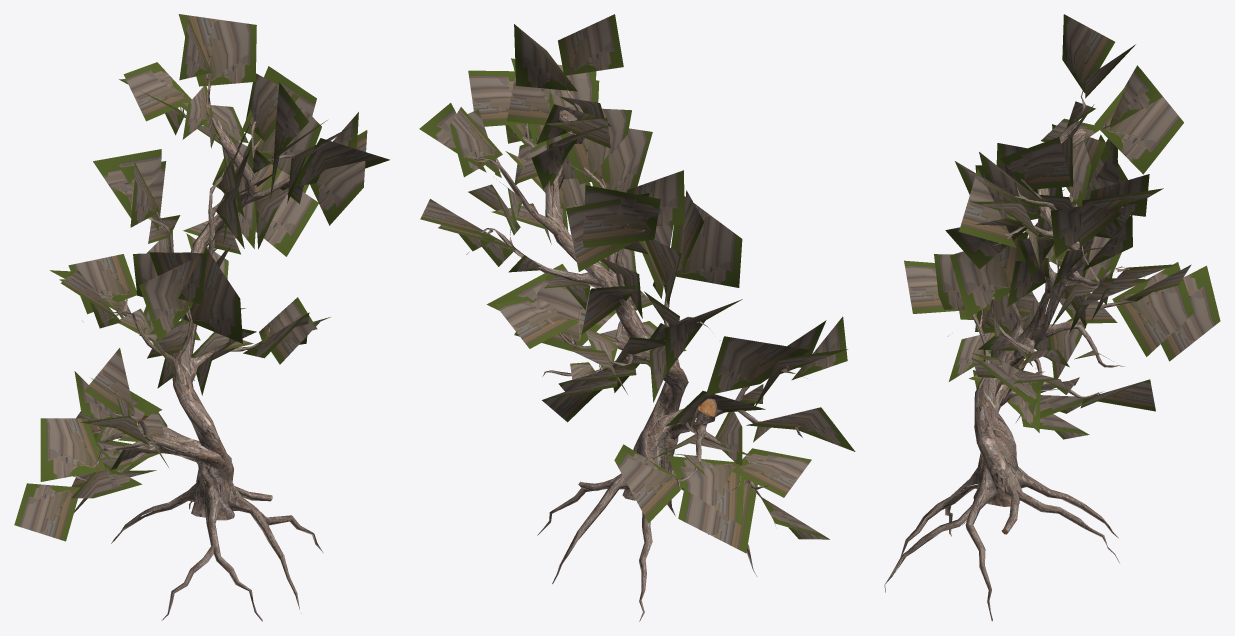
The model's file is oldtree.glb.
The picture shows the model from 3 angles, left to right: view 1: azimuth 30°, elevation 25°; view 2: azimuth 150°, elevation 25°; view 3: azimuth 270°, elevation 25°; orthographic projection. The views are drawn at different scales.
Parts seen in each view (by area): view 1: Tree_2, Tree_0; view 2: Tree_2, Tree_0; view 3: Tree_2, Tree_0.
Boxes of the visible parts, bbox=[...] form: Tree_2: bbox=[14, 14, 389, 541]; Tree_0: bbox=[73, 74, 323, 621]; Tree_2: bbox=[419, 14, 855, 553]; Tree_0: bbox=[466, 71, 807, 621]; Tree_2: bbox=[904, 14, 1220, 439]; Tree_0: bbox=[884, 91, 1149, 621].
Bounding box in the file's own units: 9.32 × 14 × 7.57.
Materials: 3 (3 with a texture image).
